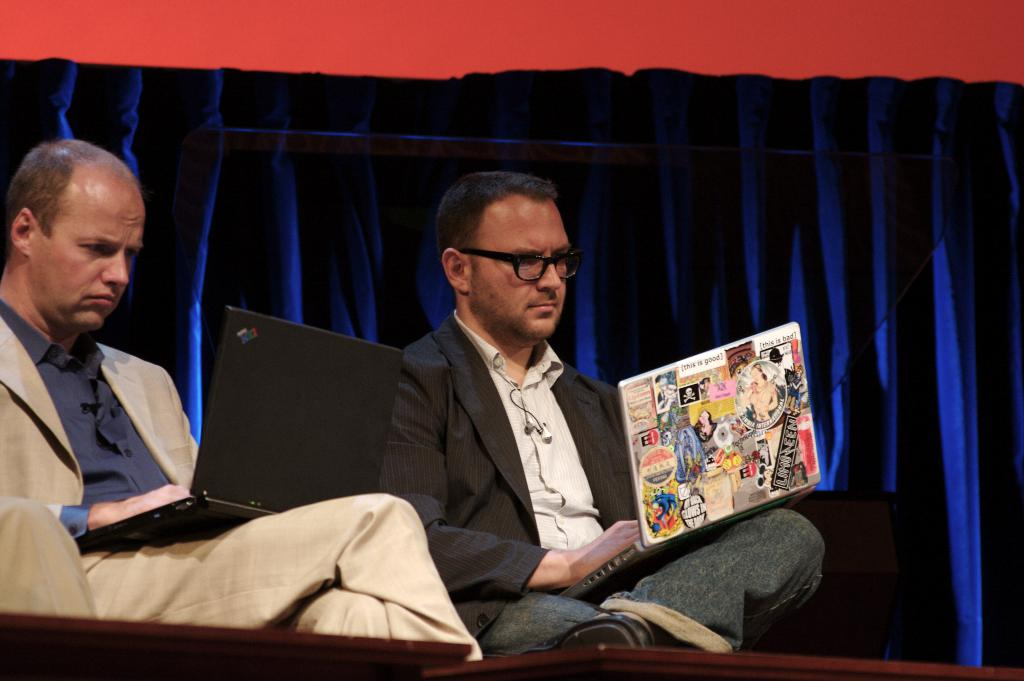Footwear: (549, 612, 648, 646)
